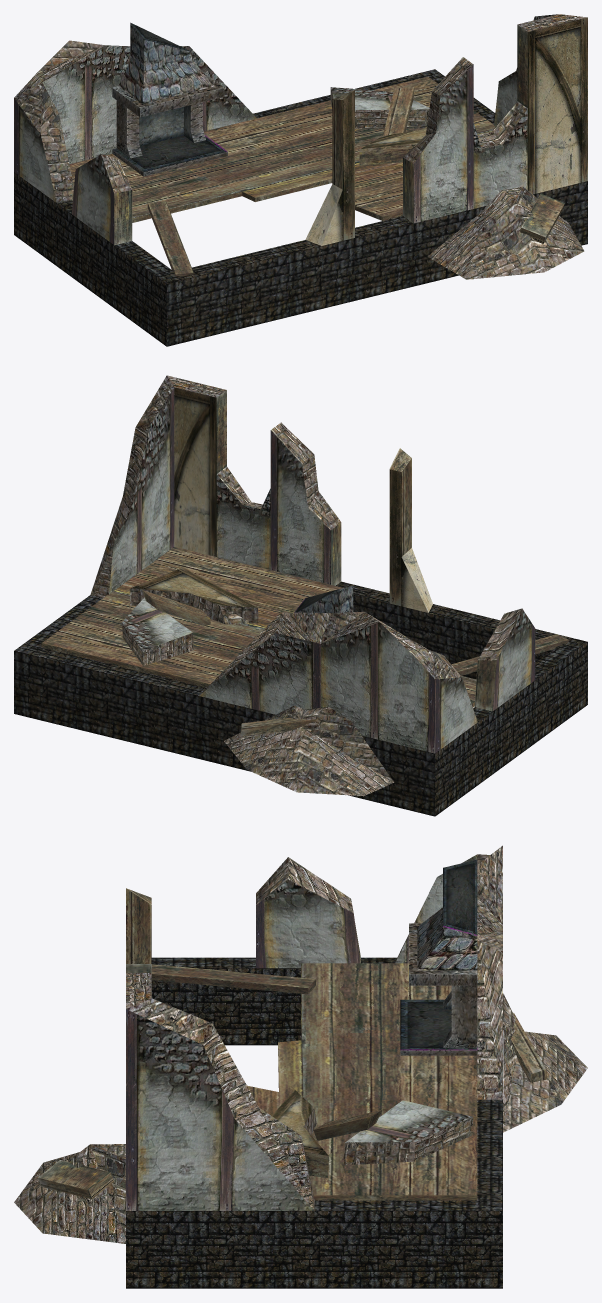
Rendered from S_Ruin07.glb.
3 renders of one model, top to bottom at view 1: azimuth 30°, elevation 25°; view 2: azimuth 150°, elevation 25°; view 3: azimuth 270°, elevation 25°, orthographic. The views are drawn at different scales.
Parts seen in each view (by area): view 1: S_Ruin07; view 2: S_Ruin07; view 3: S_Ruin07.
Boxes of the visible parts, <box> form: S_Ruin07: <box>14,14,587,346</box>; S_Ruin07: <box>14,375,587,816</box>; S_Ruin07: <box>14,845,587,1288</box>.
Bounding box in the file's own units: 7 × 3.6 × 6.7.
Materials: 10 (10 with a texture image).
